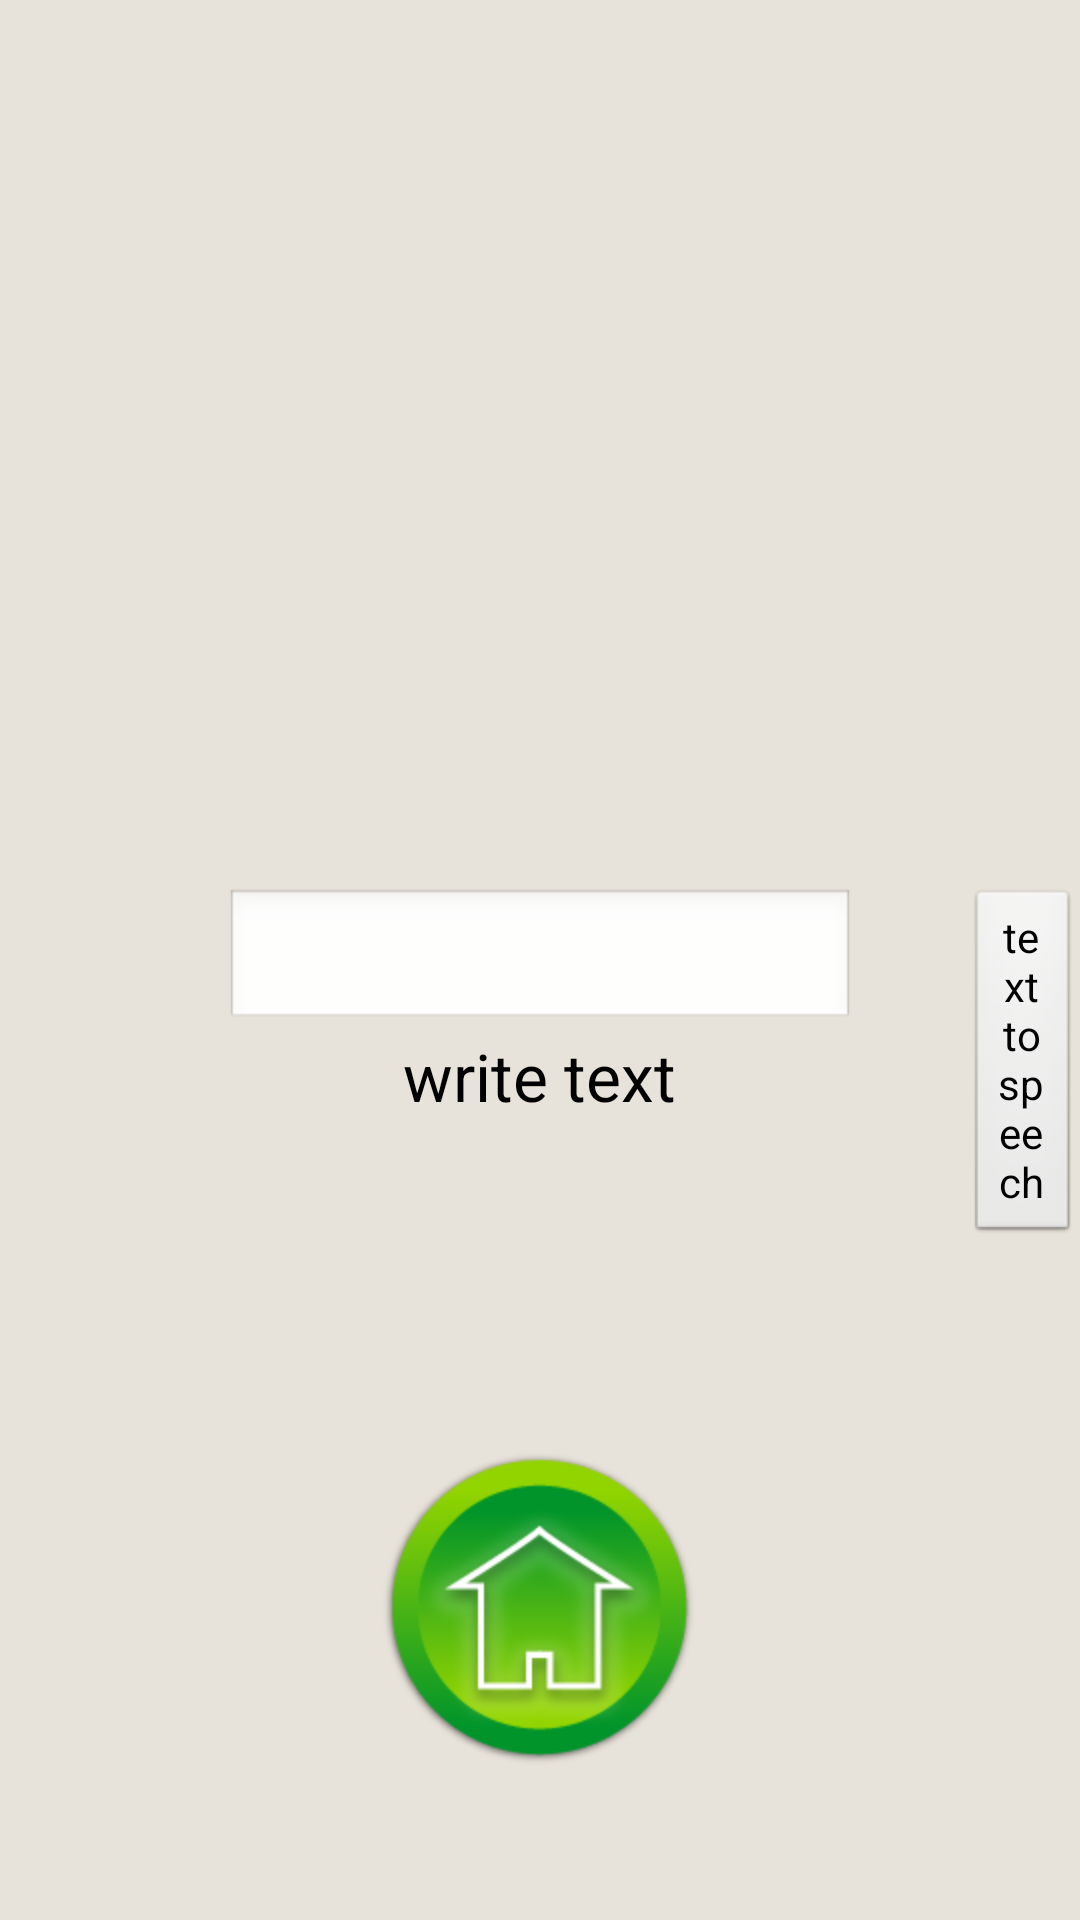

Point at icon controls on the screen. Image size 1080×1920, points as point (x, y).
home: point (539, 1609)
